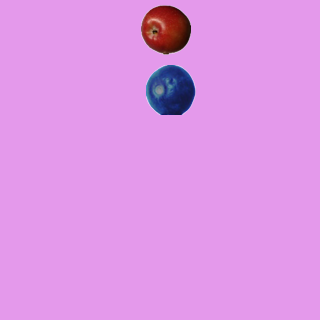Apple Braeburn: (140, 4, 190, 54)
Huckleberry: (145, 64, 195, 114)
